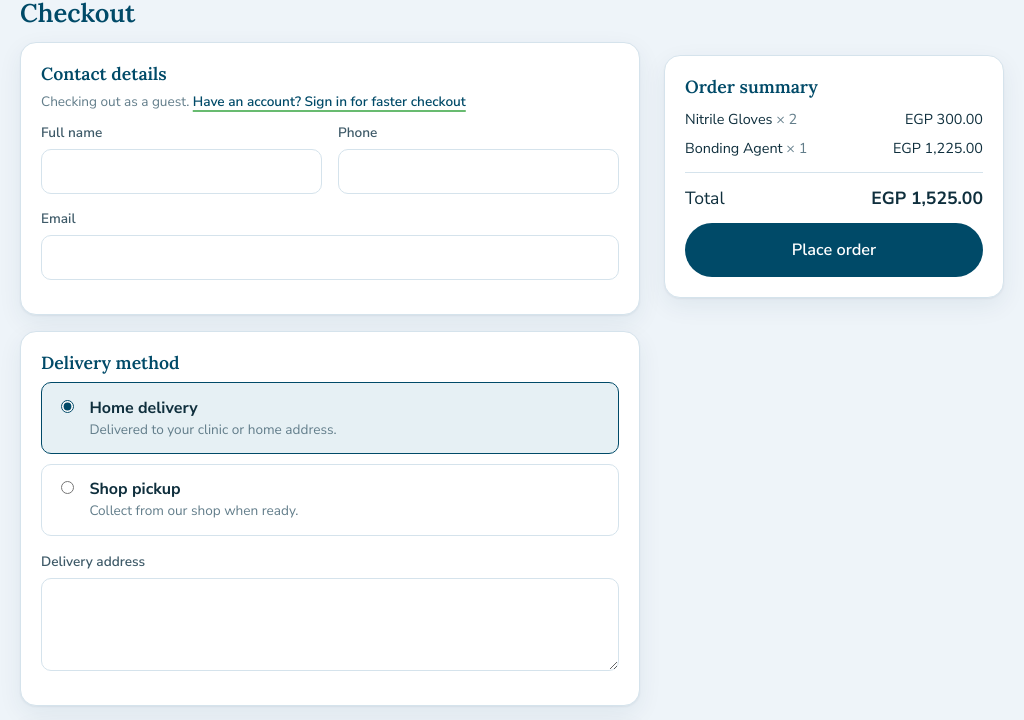
Test case: Checkout (guest) › shop pickup needs no address and relabels payment options
Click the radio button labelled "Shop pickup Collect from our shop when ready." at (68, 488), box [61,481,74,494]
(page scrolled)
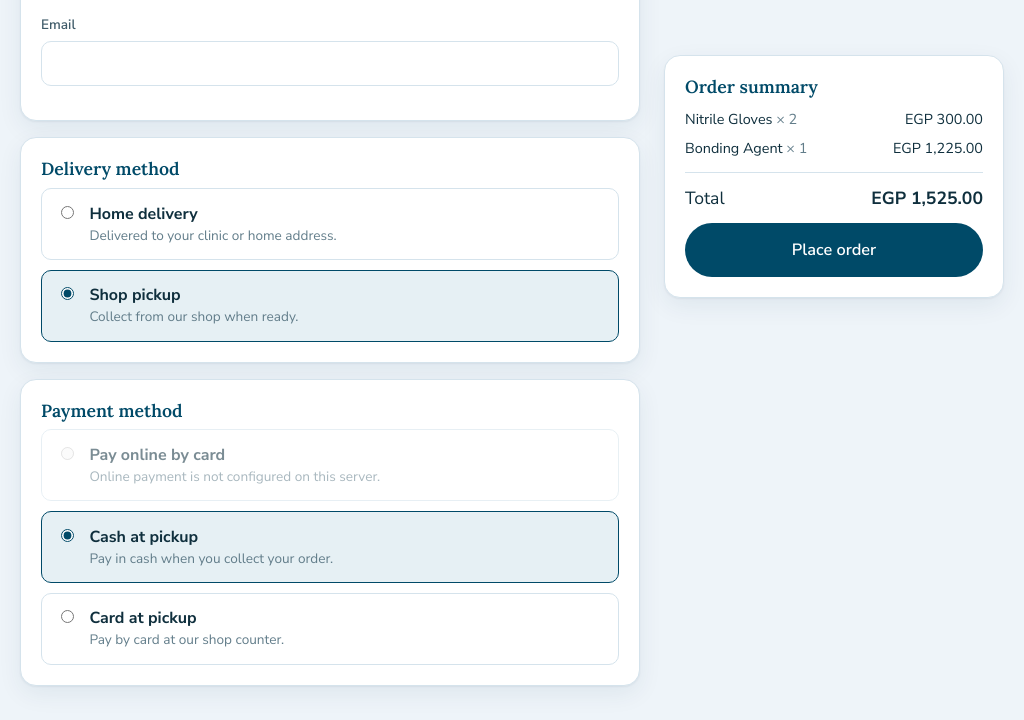
Expected: the text labelled "Delivery address" is gone
Expected: the text "Cash at pickup" is shown, [89,526,198,548]
Click the radio button labelled "Card at pickup Pay by card at our shop counter." at (68, 617), box [61,610,74,623]
(page scrolled)
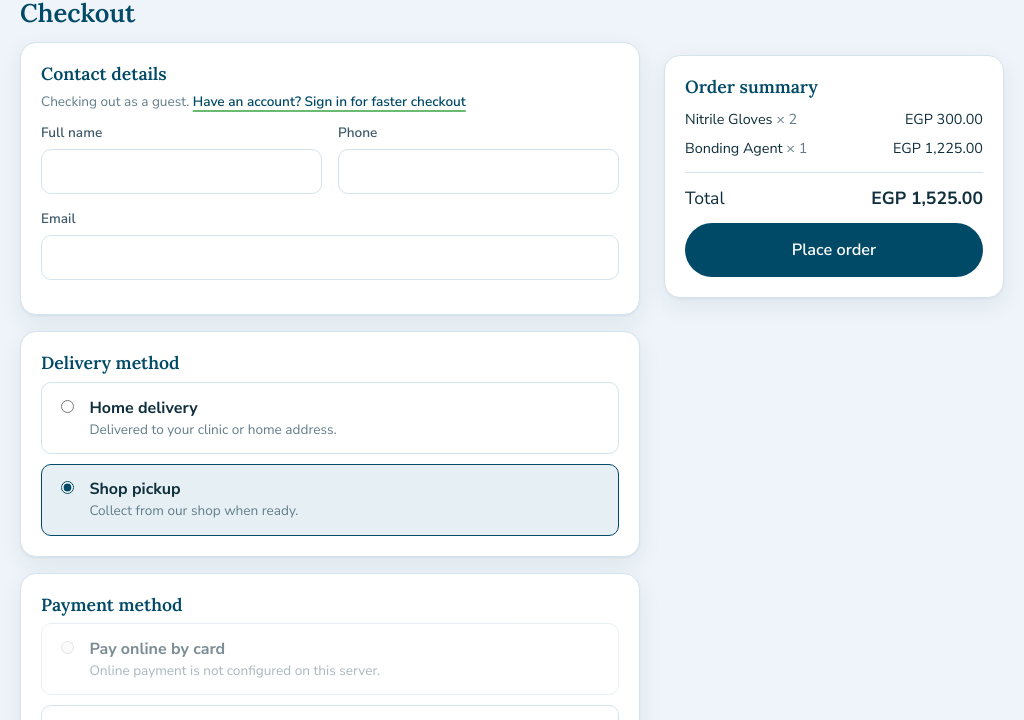
Type "Dr. Sara Mahmoud" into the field labelled "Full name" at (182, 172), box [41,149,322,194]
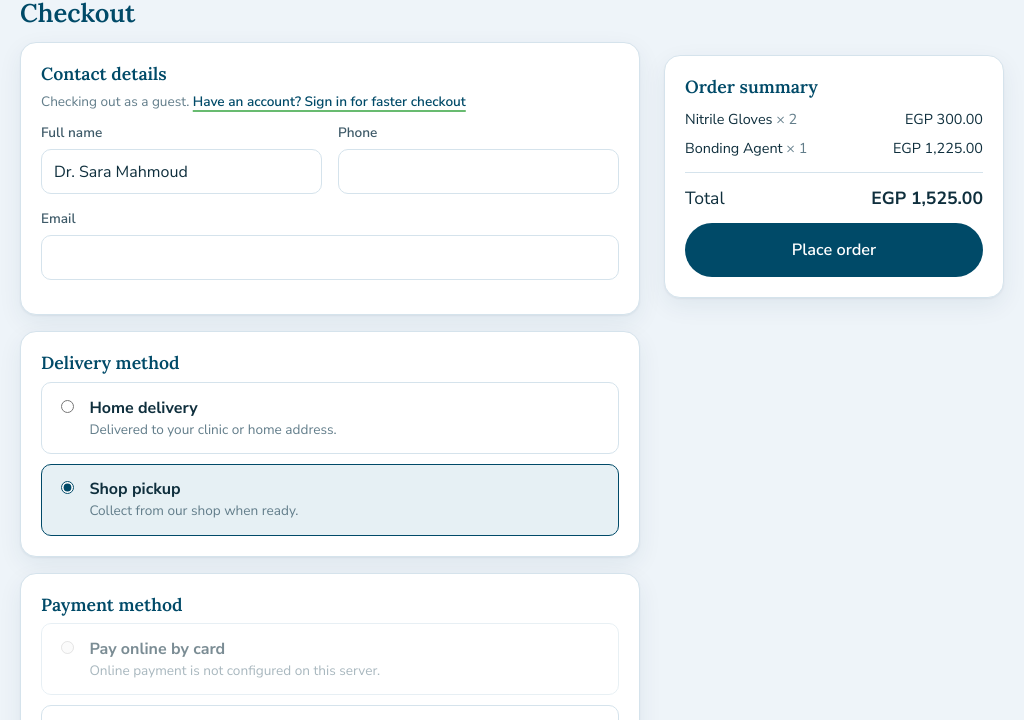
Type "+20 100 111 2233" into the field labelled "Phone" at (478, 172), box [338,149,619,194]
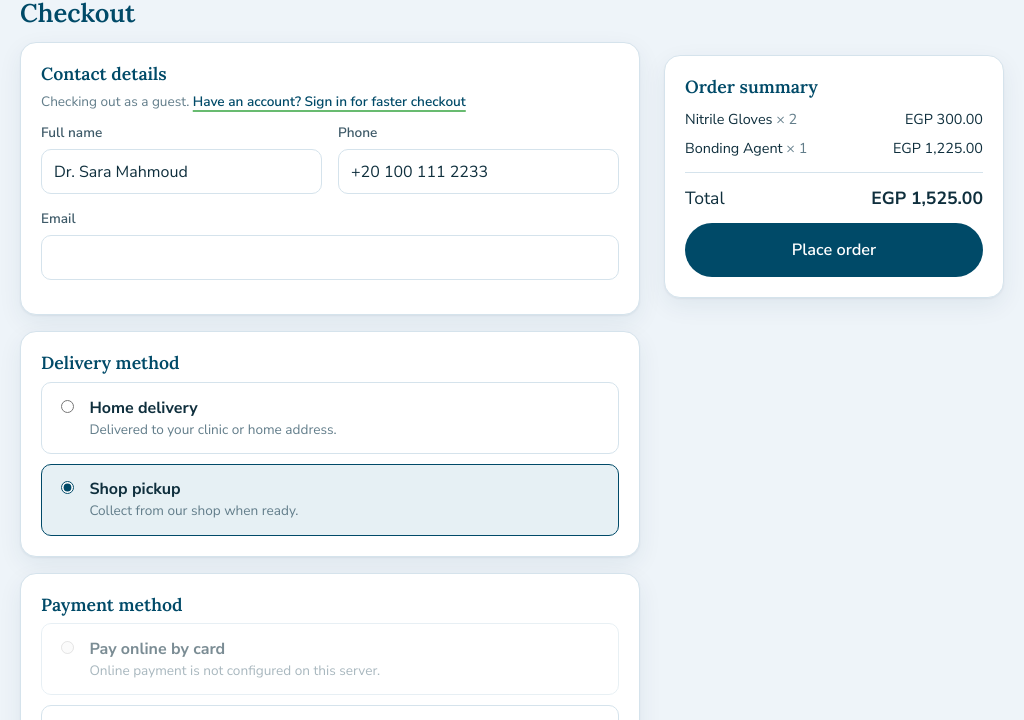
Type "sara@clinic.example" into the field labelled "Email" at (330, 257), box [41,234,619,280]
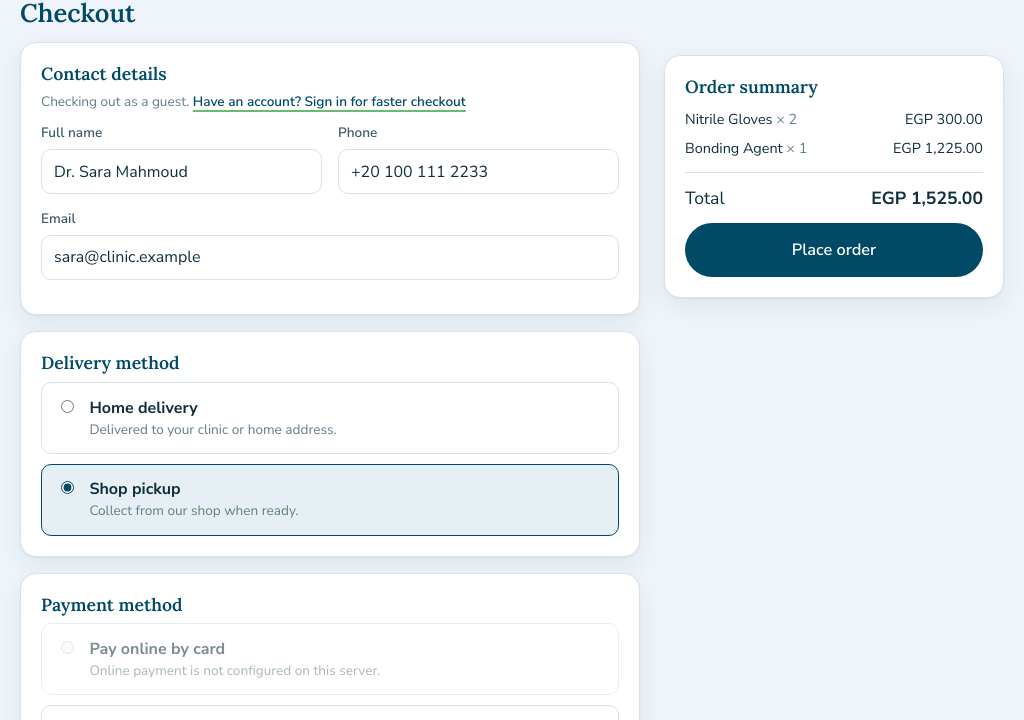
Click the button "Place order" at (834, 250), box [685,223,983,276]
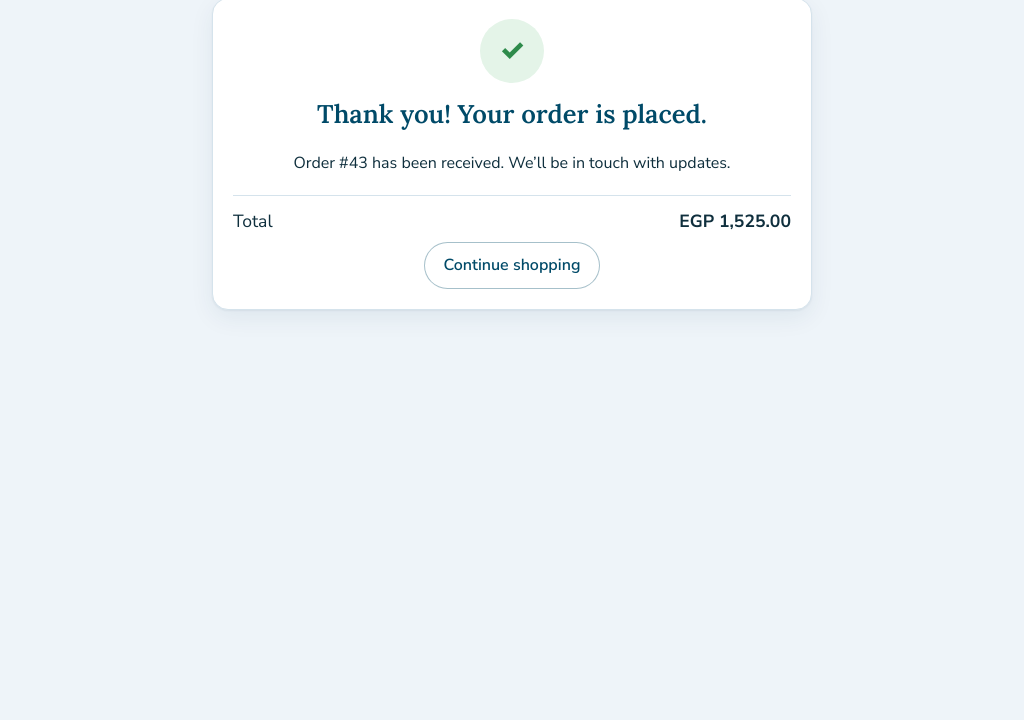
Expected: the heading "Thank you! Your order is placed." is shown, [317,97,707,130]
